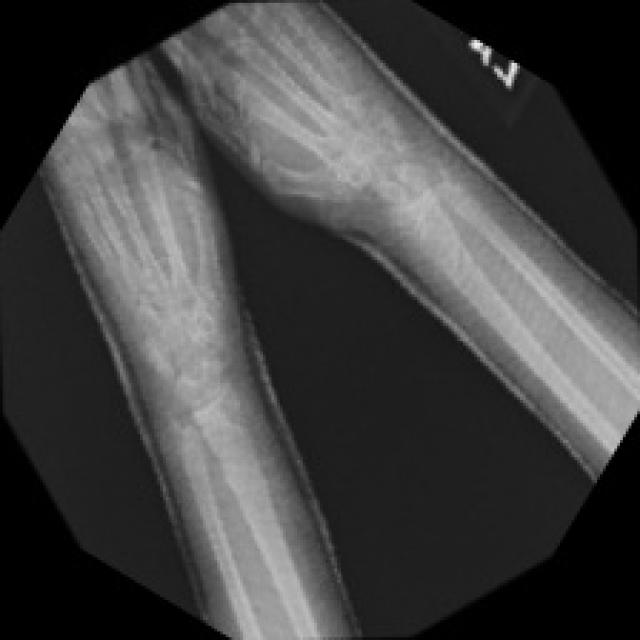fracture: (430, 234, 497, 324)
